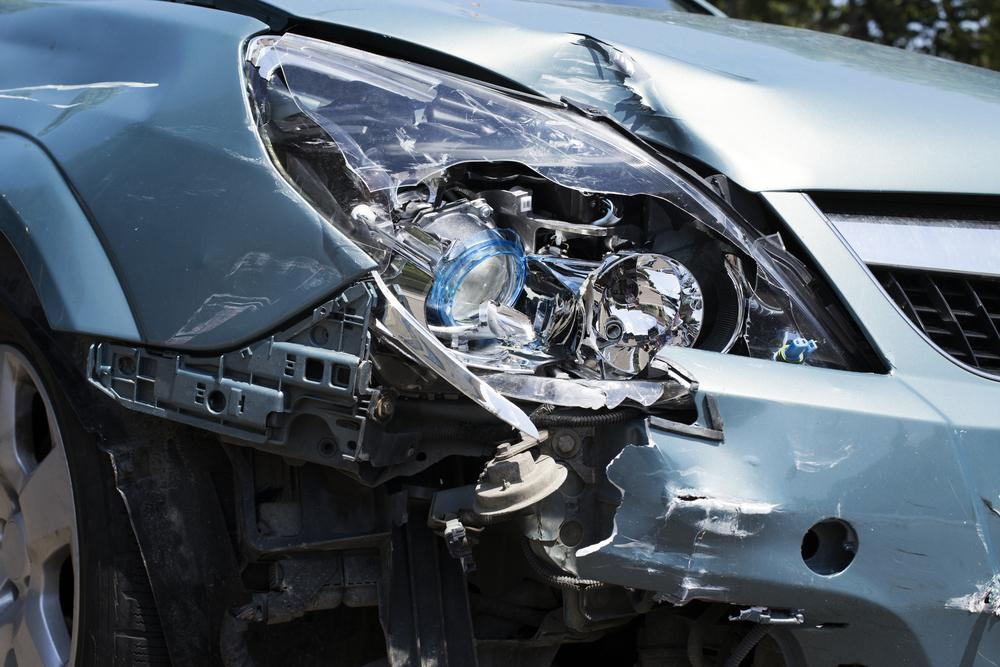dent: (10, 6, 181, 152), (523, 38, 708, 156)
lamp broken: (241, 31, 862, 403)
scratch: (628, 481, 785, 604), (173, 248, 345, 345), (935, 569, 1000, 618)
